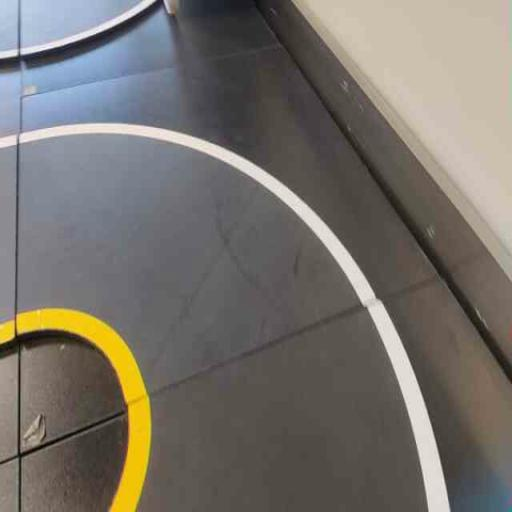left: (17, 71, 401, 453)
